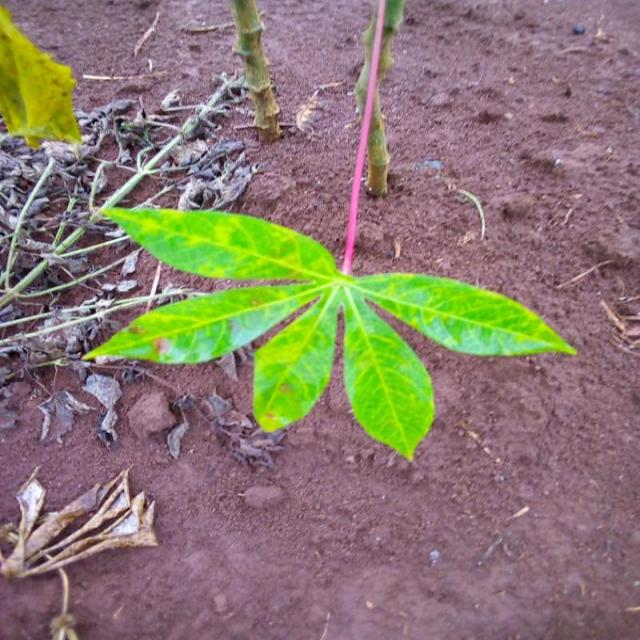cassava leaf: (81, 199, 577, 462), (0, 5, 82, 150)
